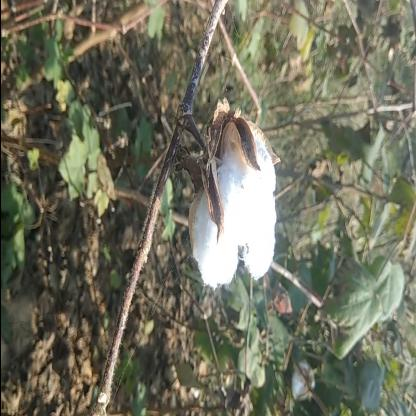cotton_ready: (146, 104, 286, 298)
